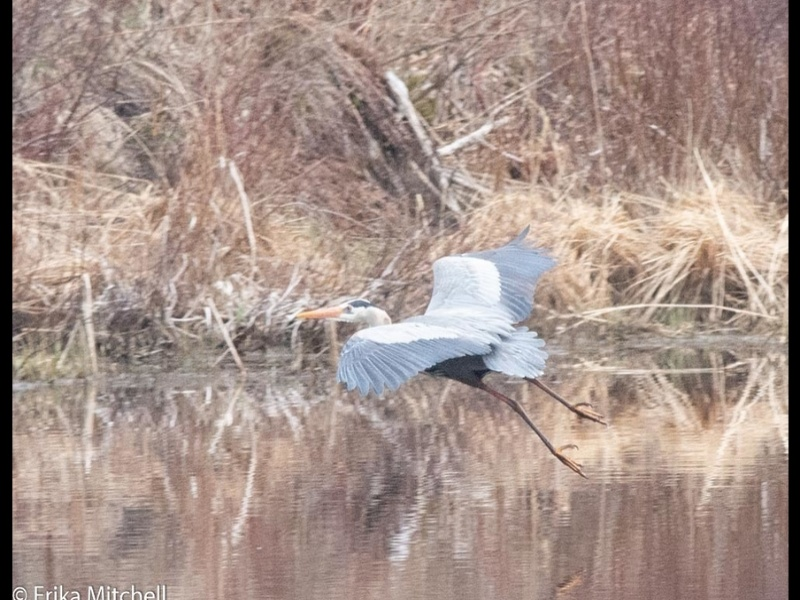heron: (291, 225, 606, 482)
